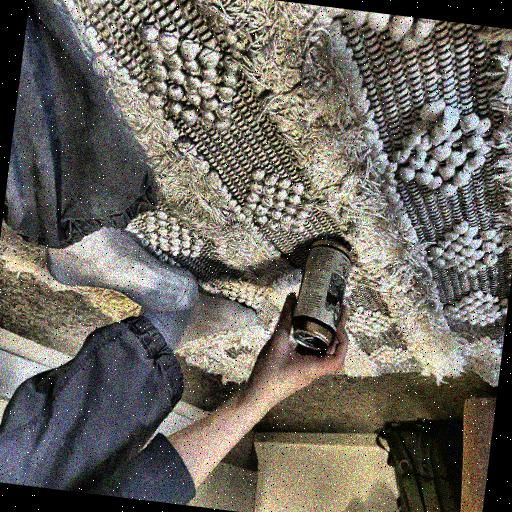sandels: (286, 235, 352, 356)
